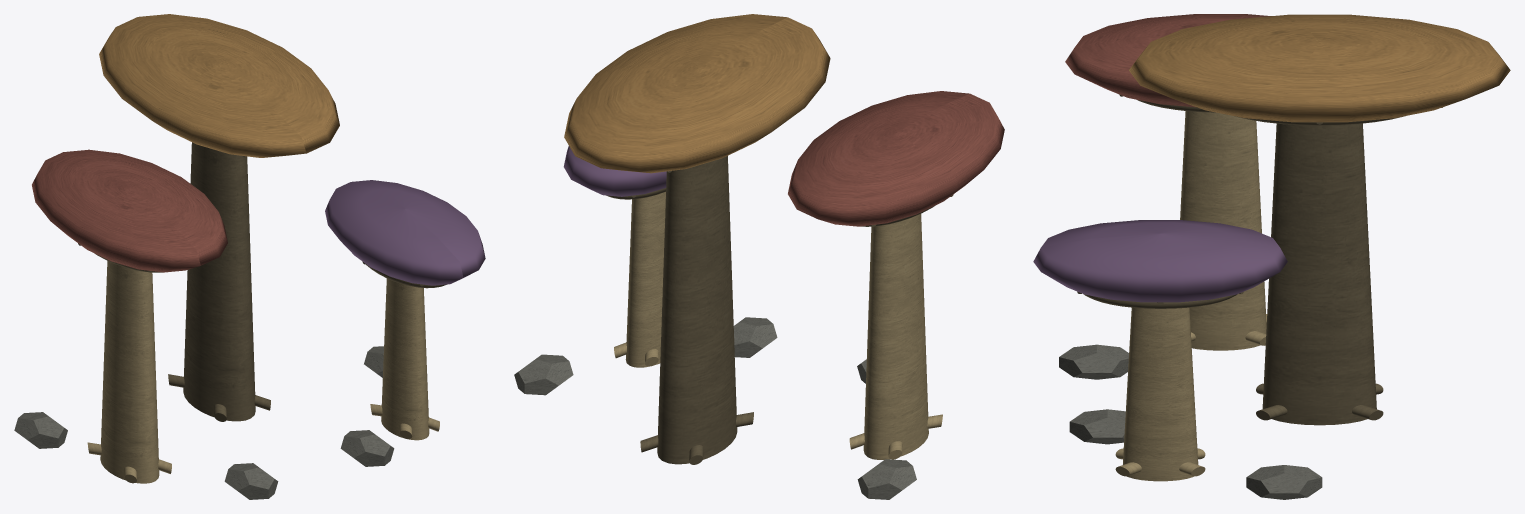
The model's file is giant_fungus.glb.
3 views of the same model, side by side, from view 1: azimuth 30°, elevation 25°; view 2: azimuth 150°, elevation 25°; view 3: azimuth 270°, elevation 25° (orthographic). The views are drawn at different scales.
Parts seen in each view (by area): view 1: giant_fungus; view 2: giant_fungus; view 3: giant_fungus.
Part boxes in pixels (x1,y1,x2,y2): giant_fungus: [14, 14, 485, 499]; giant_fungus: [514, 14, 1004, 499]; giant_fungus: [1033, 14, 1510, 499].
Size of the model in its own units: 2.8 by 2.4 by 2.8.
1 material, 1 textured.
